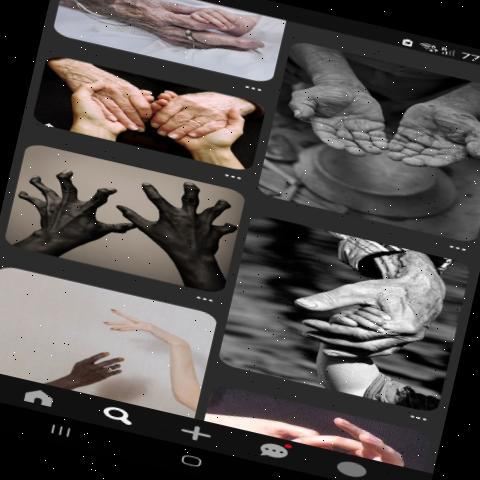Hands: (278, 240, 441, 396), (120, 161, 252, 266), (375, 75, 475, 202), (15, 161, 137, 255), (281, 89, 395, 173), (92, 284, 190, 368), (152, 76, 253, 150), (67, 68, 159, 138), (54, 334, 144, 391)
